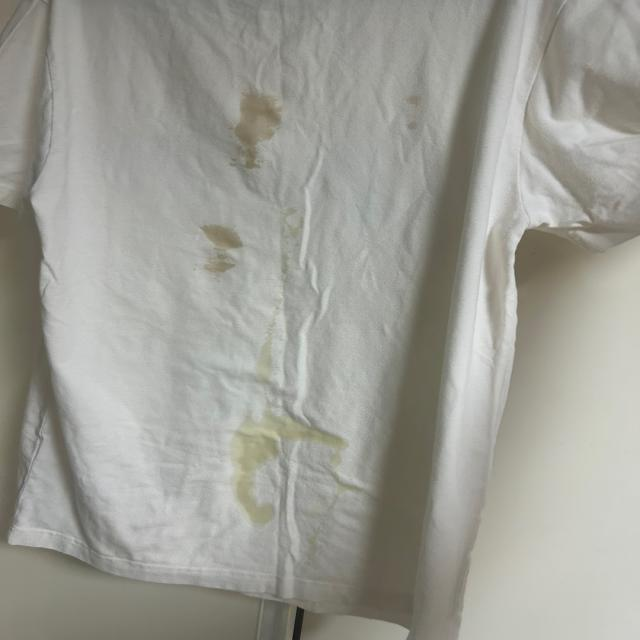stain: (232, 412, 353, 458), (223, 85, 280, 174), (198, 219, 254, 278), (236, 454, 280, 526), (394, 92, 426, 151), (256, 326, 280, 380), (270, 213, 301, 247)
